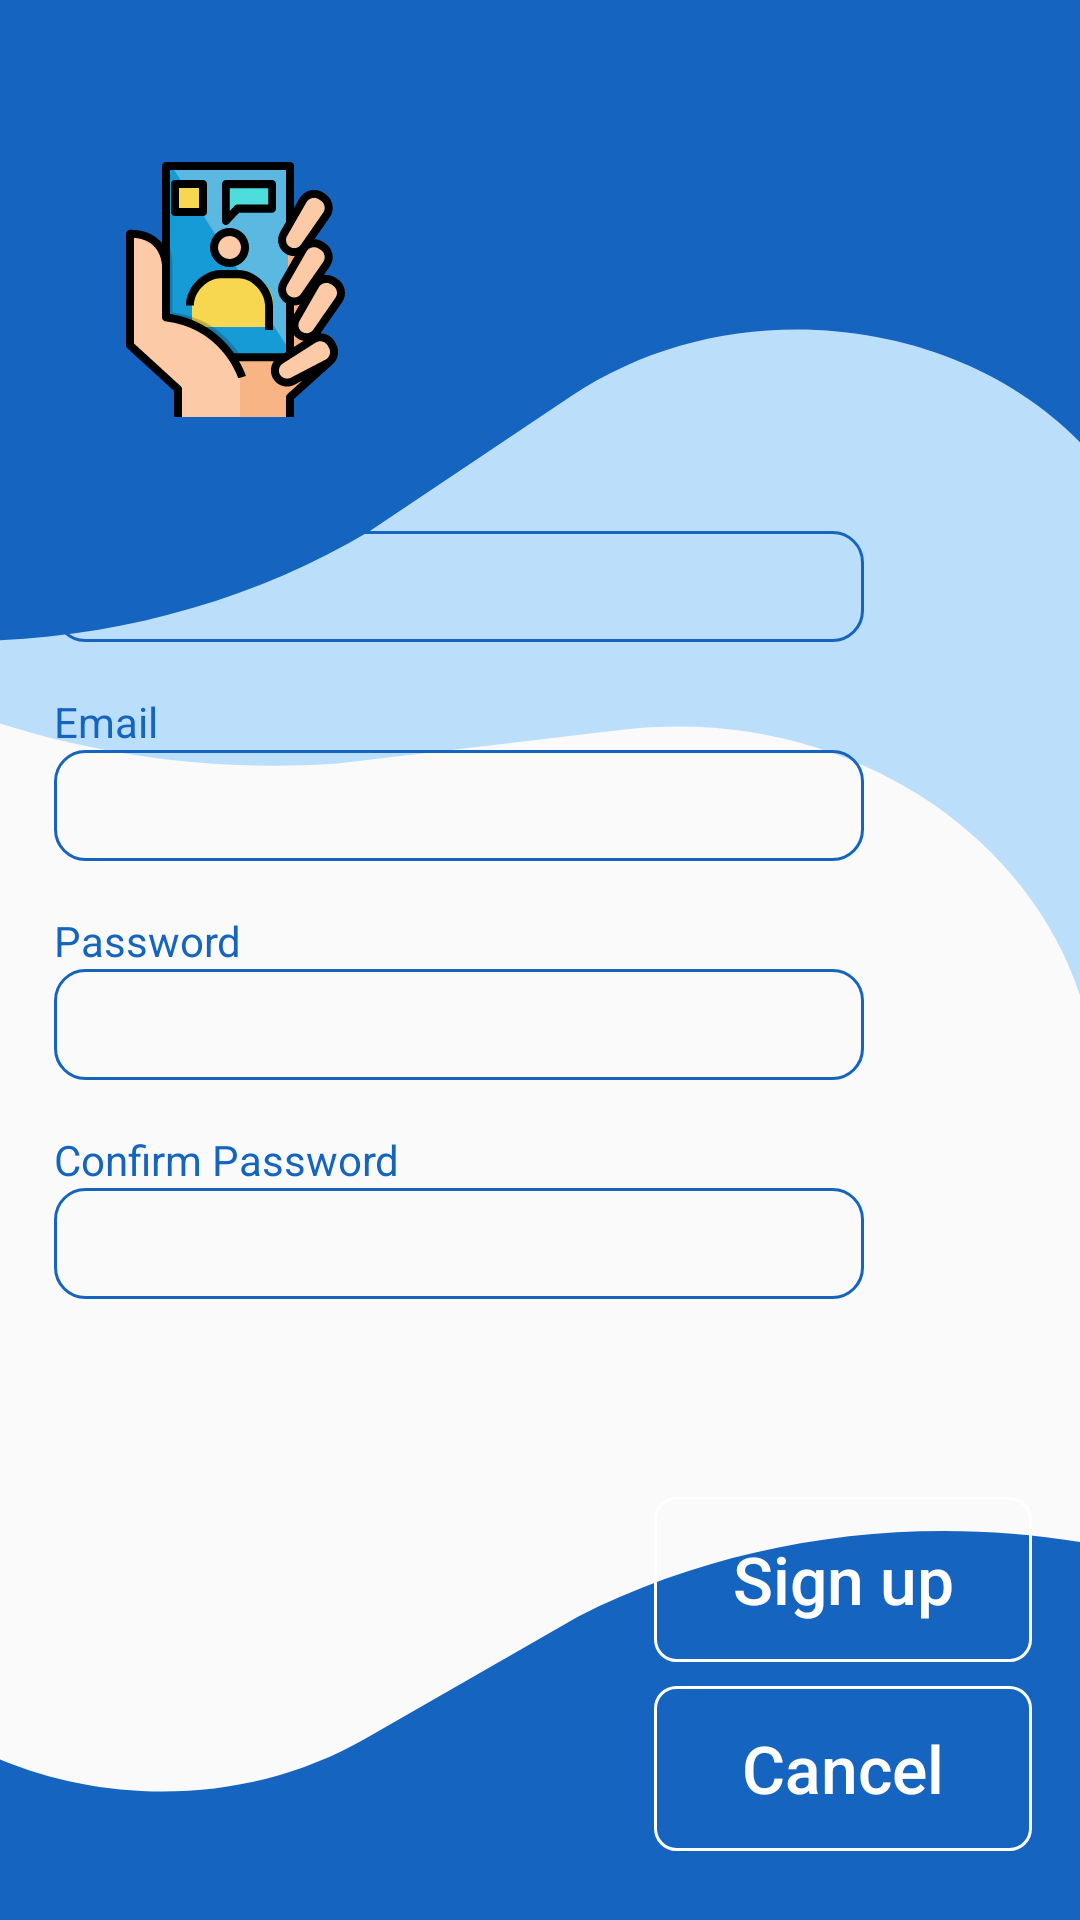

Point at icon controls on the screen. Image size 1080px x 1920px, points as (x,y).
video calling: (235,289)
